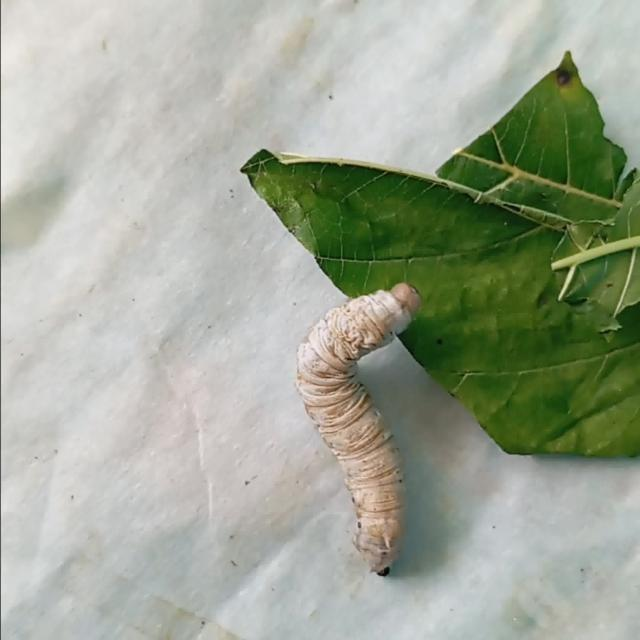Grasserie: (280, 257, 451, 606)
